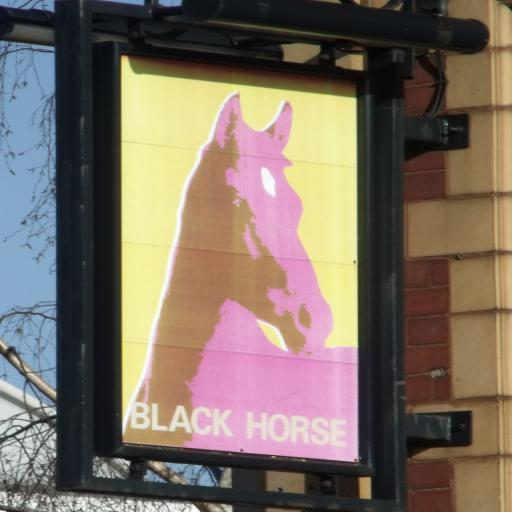horse: (122, 91, 362, 464)
